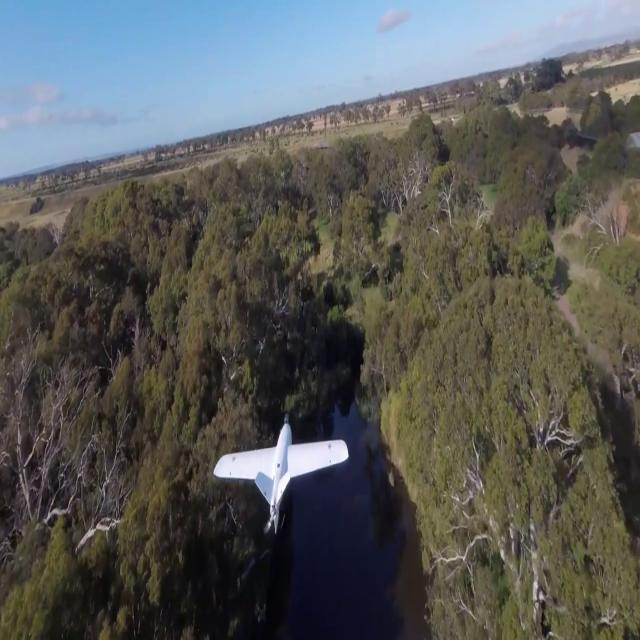iha: (211, 454, 352, 492)
